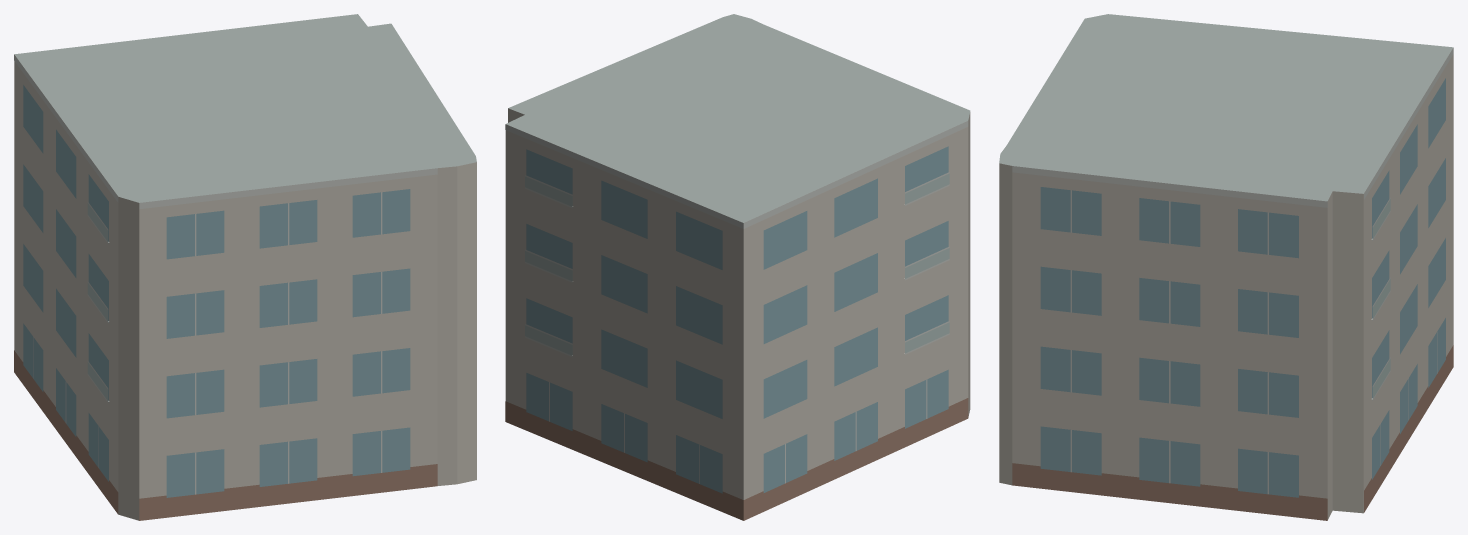
The model's file is survey-upis-32928769.glb.
The picture shows the model from 3 angles, left to right: view 1: azimuth 30°, elevation 25°; view 2: azimuth 150°, elevation 25°; view 3: azimuth 270°, elevation 25°; orthographic projection. The views are drawn at different scales.
Parts seen in each view (by area): view 1: survey-upis-32928769.tmp; view 2: survey-upis-32928769.tmp; view 3: survey-upis-32928769.tmp.
Boxes of the visible parts, x1,y1,x2,y2 form: survey-upis-32928769.tmp: (14, 14, 476, 520); survey-upis-32928769.tmp: (505, 14, 970, 520); survey-upis-32928769.tmp: (999, 14, 1453, 520).
Size of the model in its own units: 15.36 by 12.2 by 15.74.
